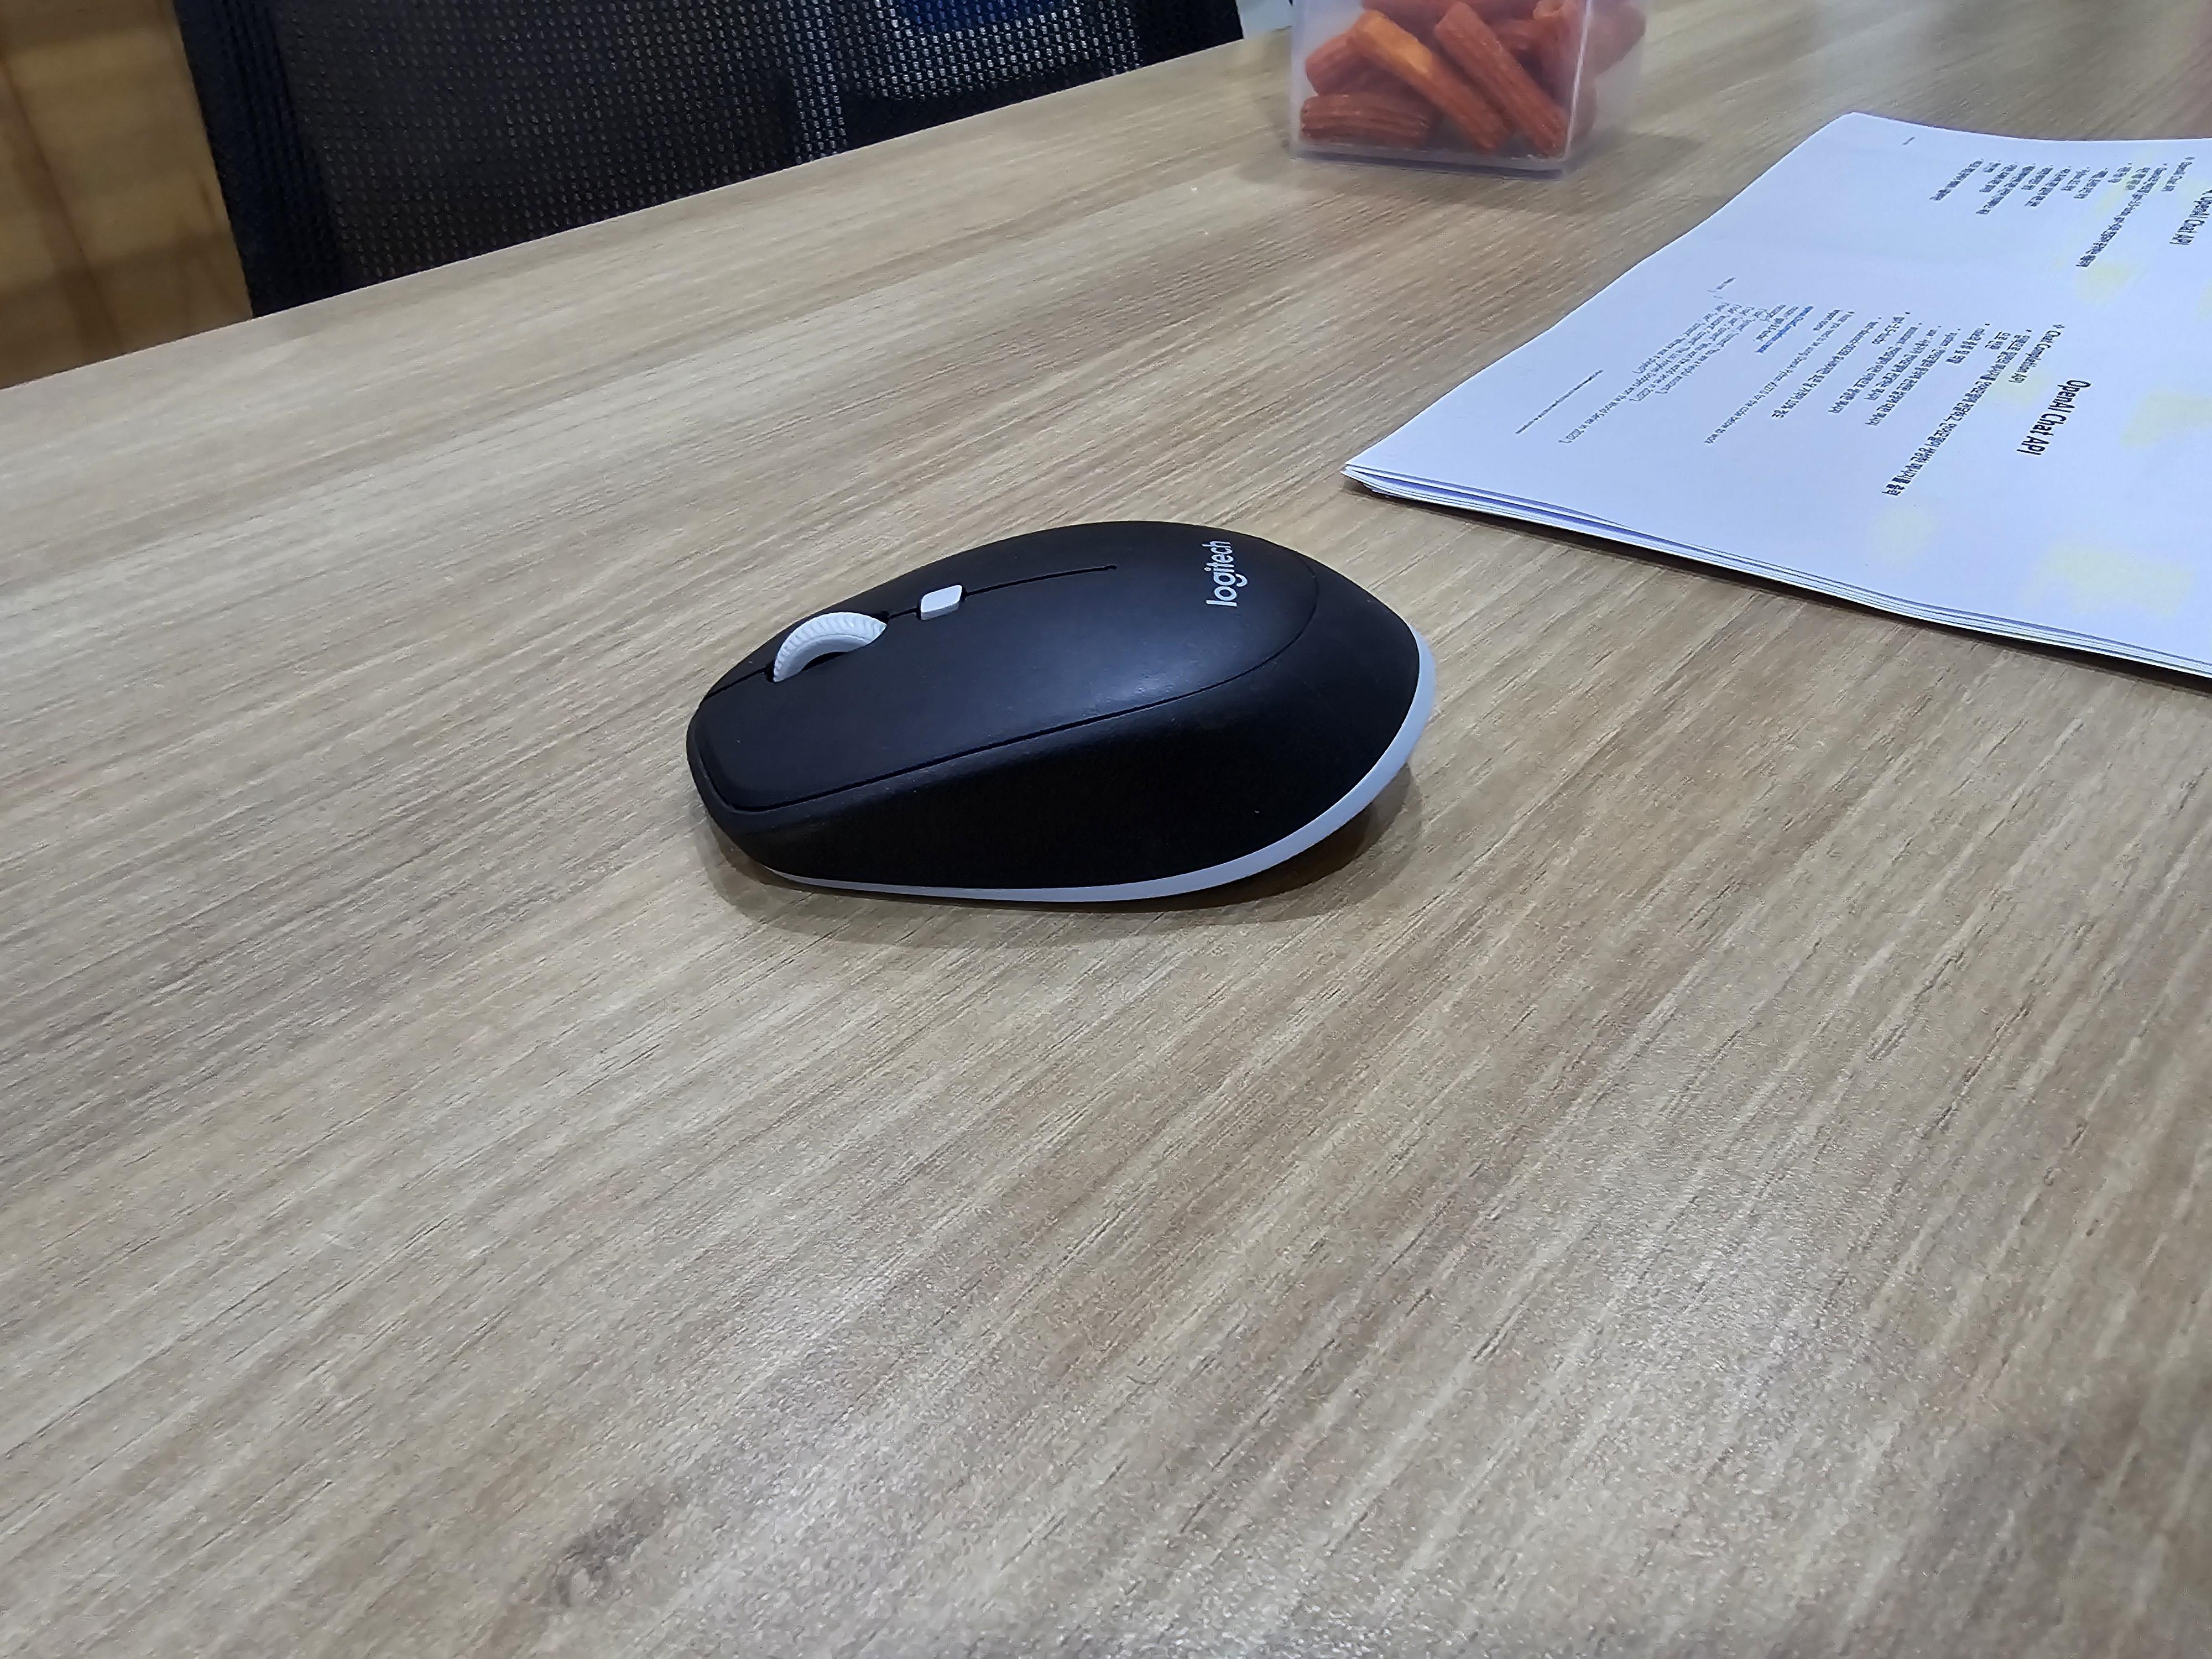book: (1341, 106, 2210, 683)
mouse: (683, 516, 1437, 906)
